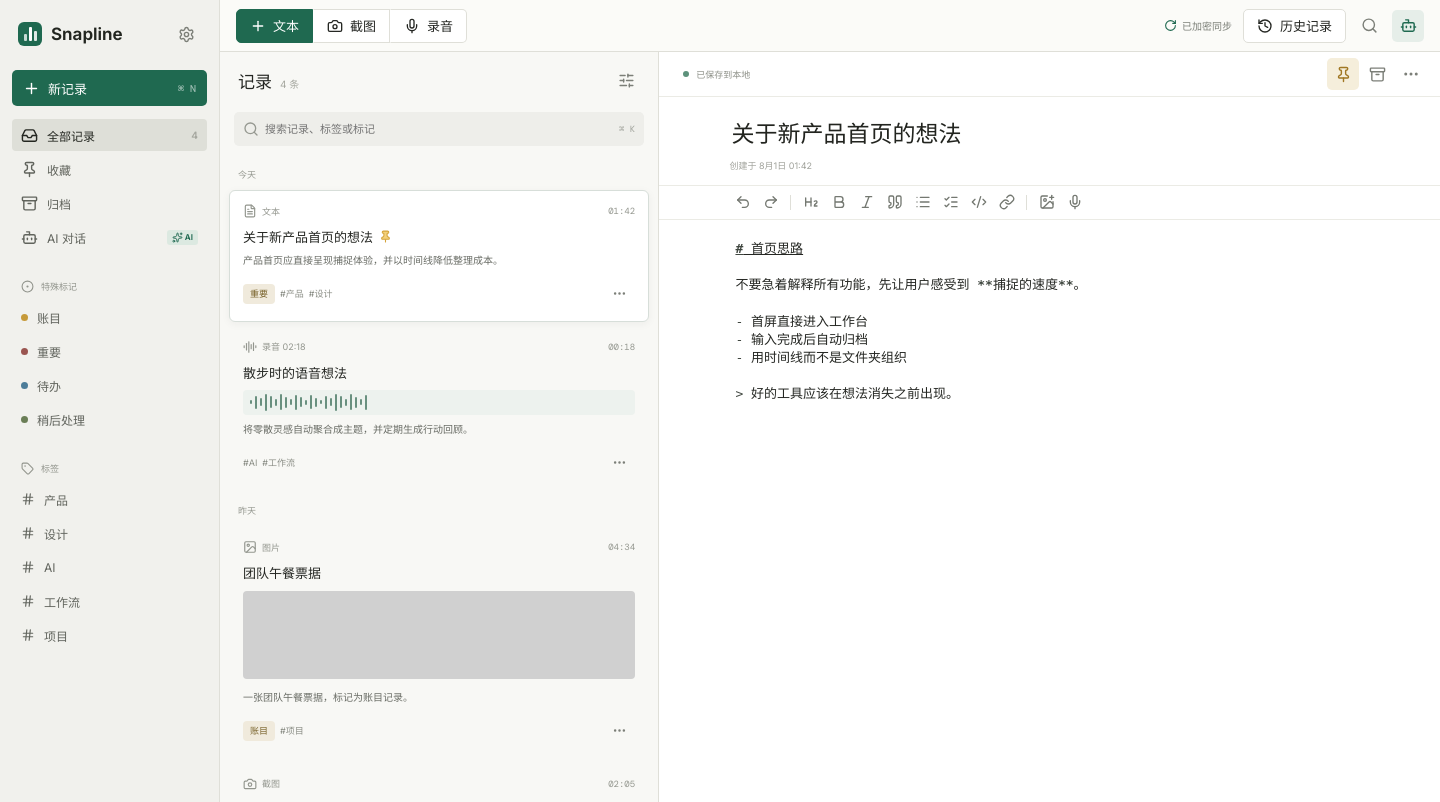
Scenario: desktop workspace › combines source, marker, and tag filters and can clear them
Expected: the heading "团队午餐票据" is shown, [243,563,321,582]
Click the button named "筛选" at (626, 80), box [610,64,642,96]
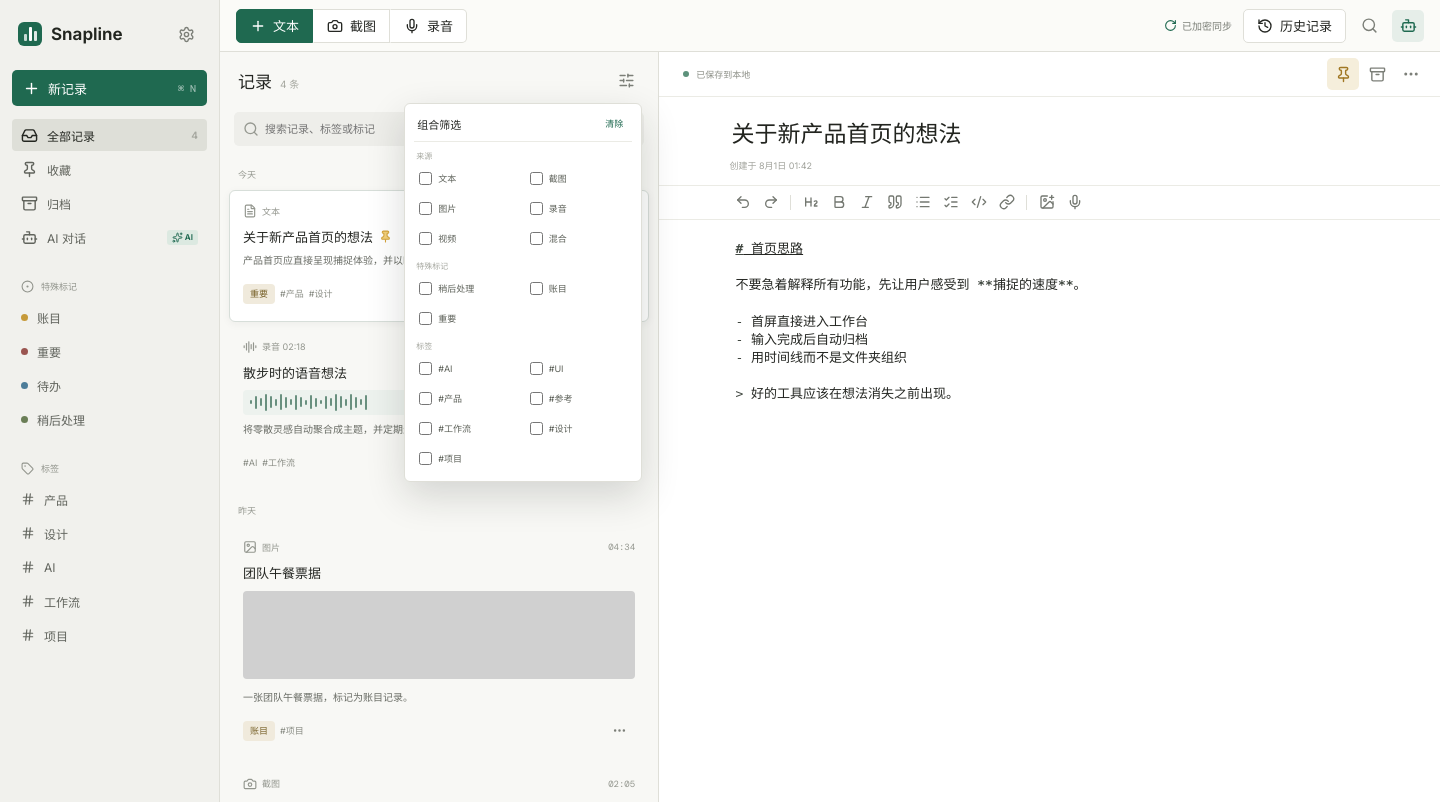
Click the checkbox labelled "图片" at (426, 208), box [419,202,432,214]
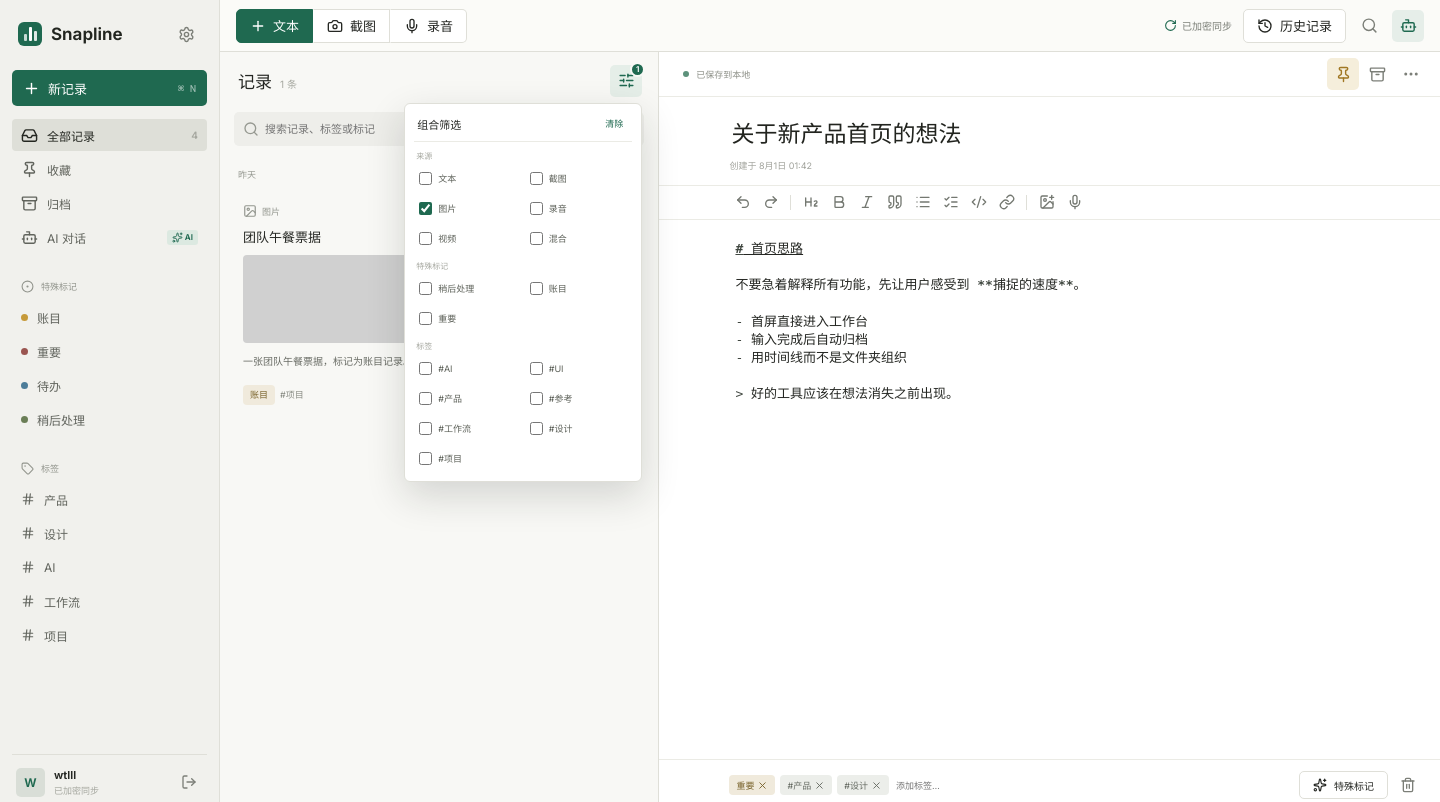
Click the checkbox labelled "账目" at (536, 288), box [530,282,543,294]
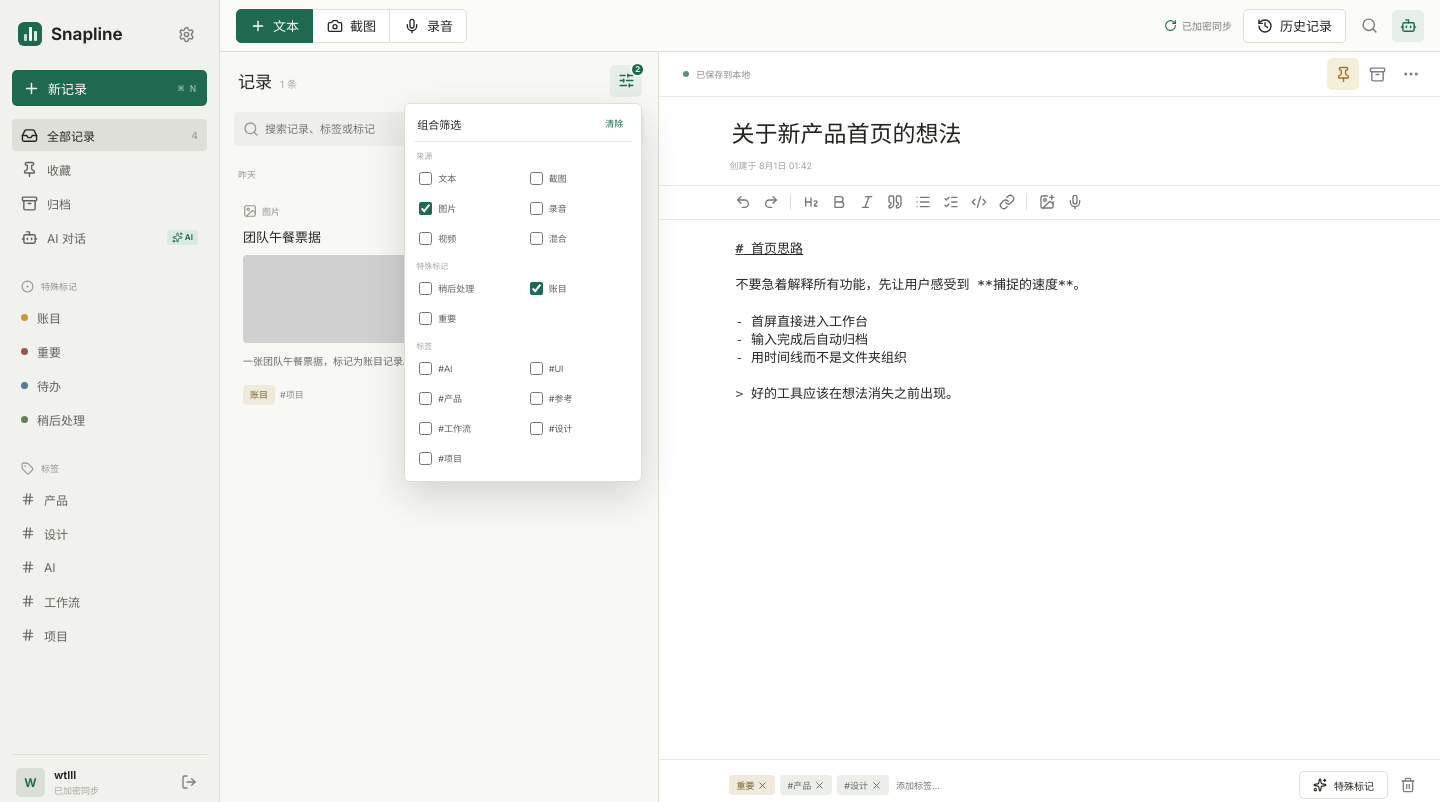
Click the checkbox labelled "#项目" at (426, 458), box [419,452,432,464]
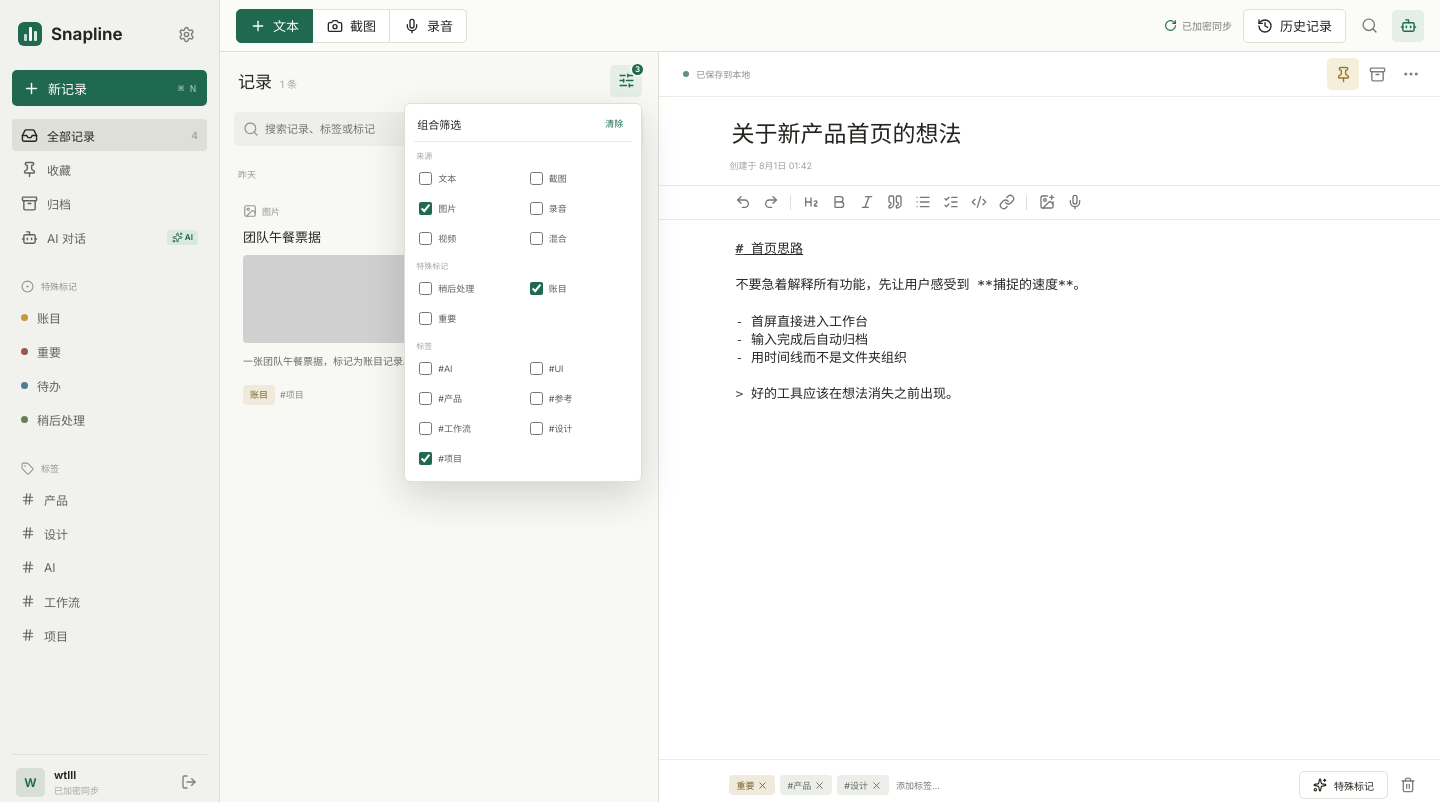
Expected: the heading "团队午餐票据" is shown, [243,227,321,246]
Click the checkbox labelled "重要" at (426, 318), box [419,312,432,324]
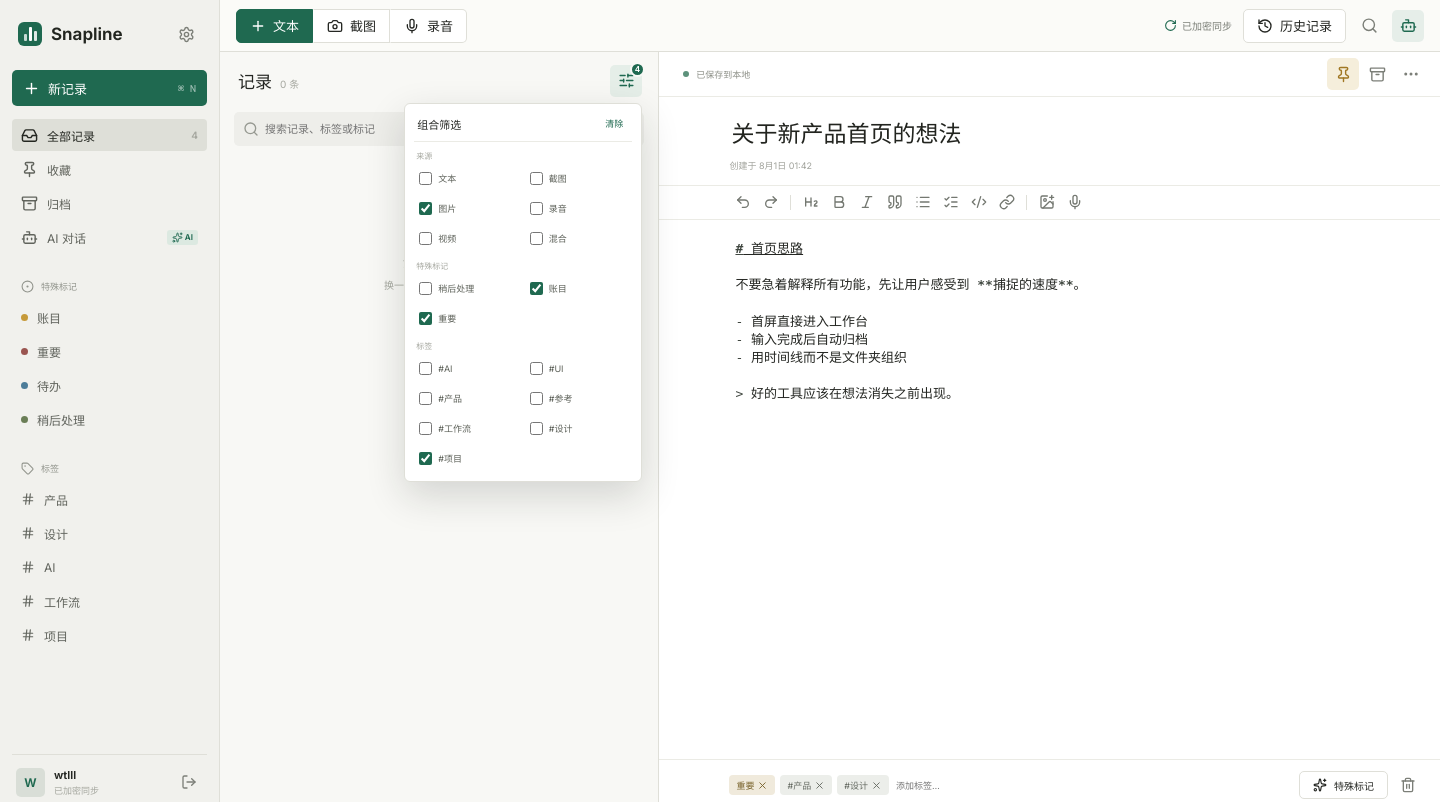
Expected: the text "没有找到记录" is shown, [403,253,475,270]
Click the button "清除" at (614, 124), box [599,116,629,131]
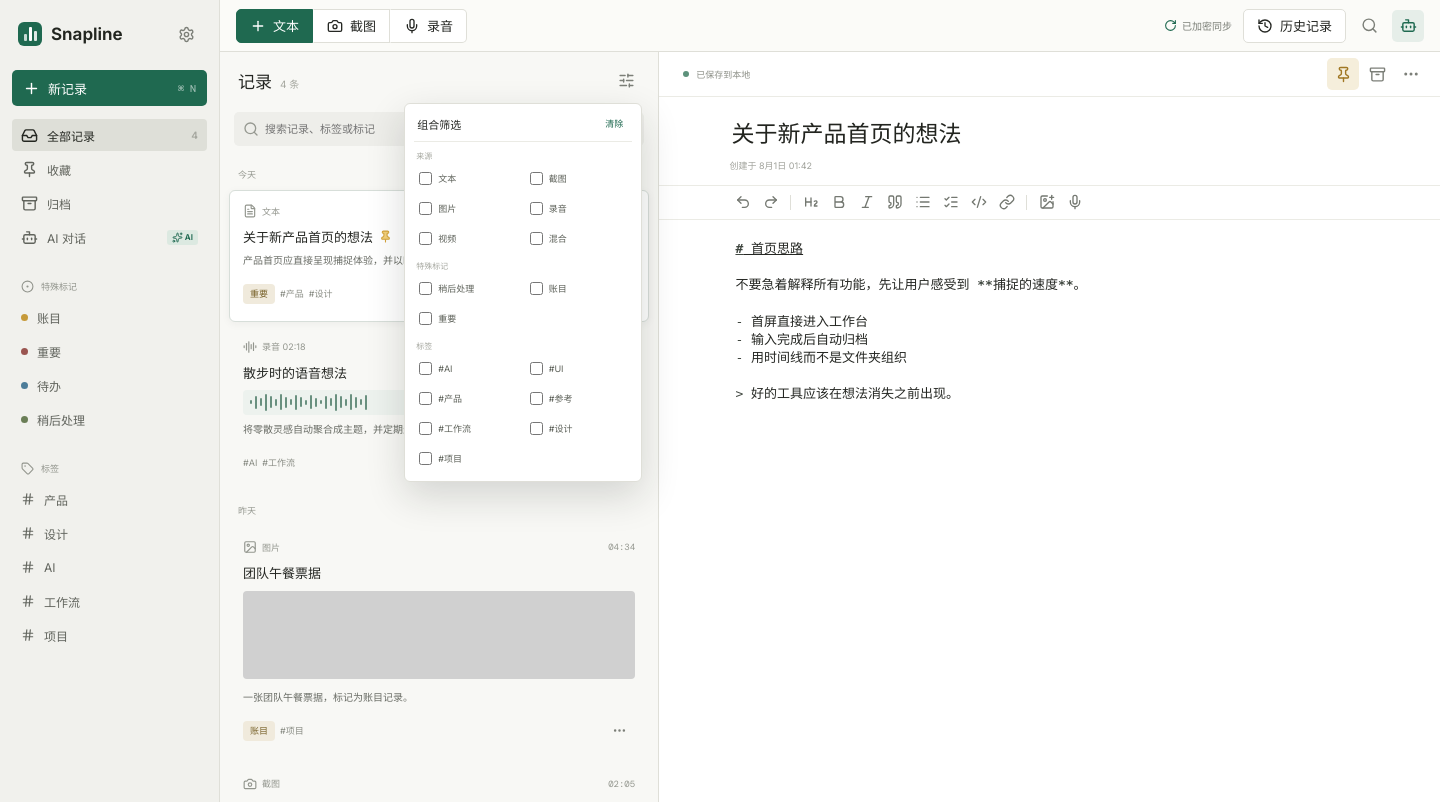
Expected: the heading "团队午餐票据" is shown, [243,563,321,582]
Expected: the heading "关于新产品首页的想法" is shown, [243,227,373,246]
